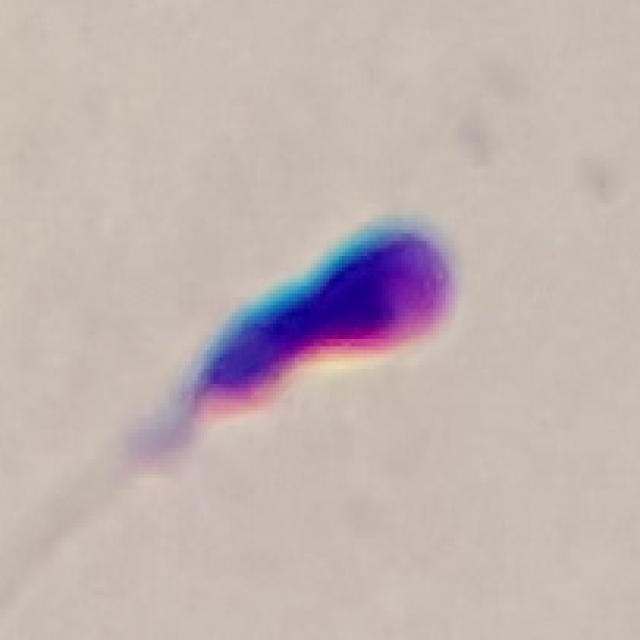abnormal sperm: (112, 226, 462, 482)
